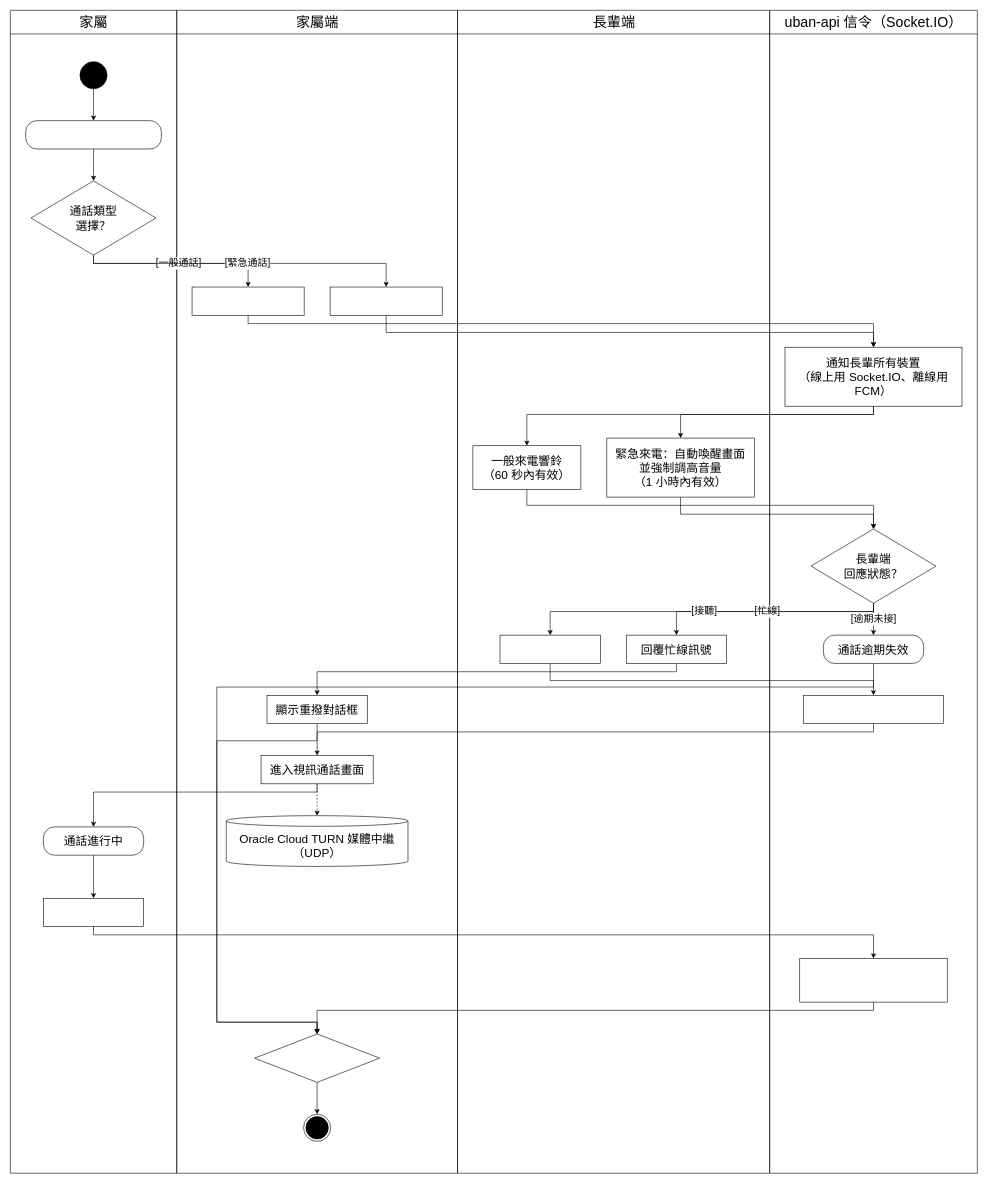
Some shapes in this 988 by 1184 pixel diagram are drawn without their labels. The shapes that lost their labels are listed below. From the top down, each one's centre as x and y in pixels, then its label:
At point (93, 134): "於『互動』分頁點撥打".
At point (247, 300): "發起一般通話請求".
At point (386, 300): "發起緊急通話請求".
At point (549, 649): "接聽來電".
At point (873, 709): "交換 WebRTC 連線資訊".
At point (93, 912): "點選掛斷按鈕".
At point (873, 980): "掛斷並寫入通話紀錄 （標記是否為緊急通話）".
